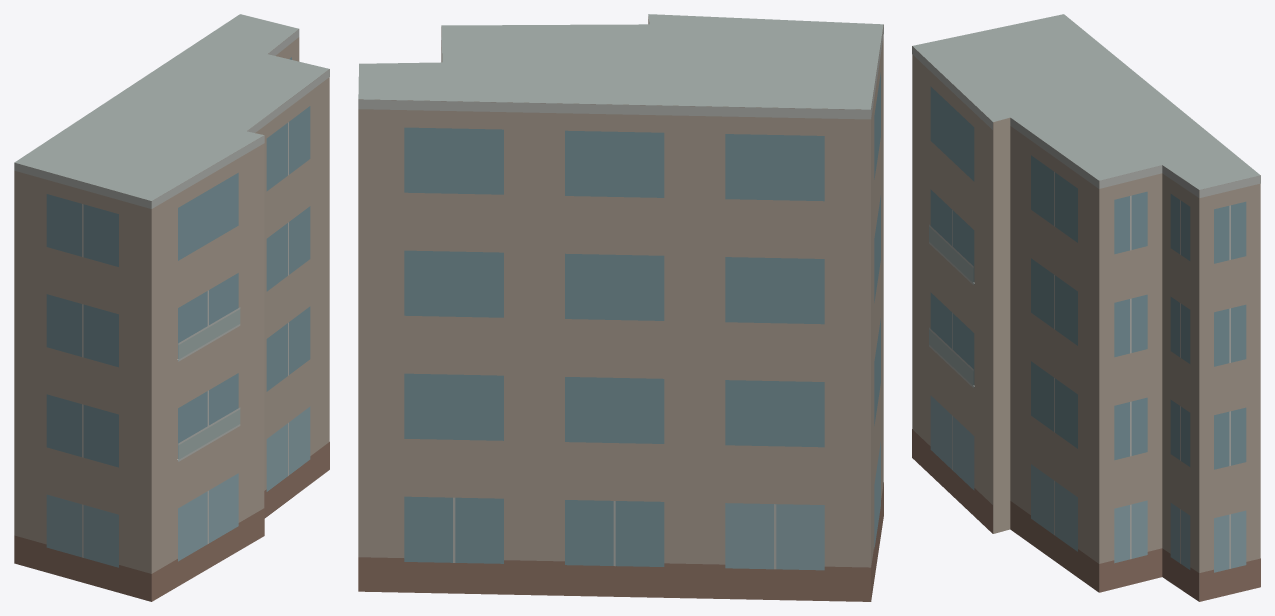
The model's file is survey-upis-32738151.glb.
3 renders of one model, left to right at view 1: azimuth 30°, elevation 25°; view 2: azimuth 150°, elevation 25°; view 3: azimuth 270°, elevation 25°, orthographic. The views are drawn at different scales.
Visible parts, largest first — view 1: survey-upis-32738151.tmp; view 2: survey-upis-32738151.tmp; view 3: survey-upis-32738151.tmp.
Boxes of the visible parts, <box> form: survey-upis-32738151.tmp: <box>14,14,329,601</box>; survey-upis-32738151.tmp: <box>358,14,883,601</box>; survey-upis-32738151.tmp: <box>912,14,1260,601</box>.
Size of the model in its own units: 11.19 by 12.2 by 9.37.
